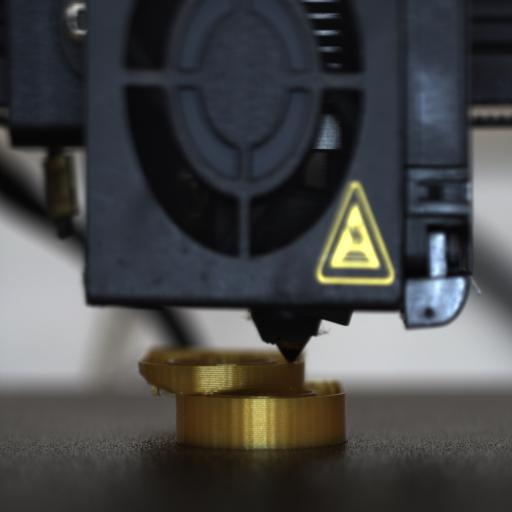layer_shift: (137, 374, 350, 404)
